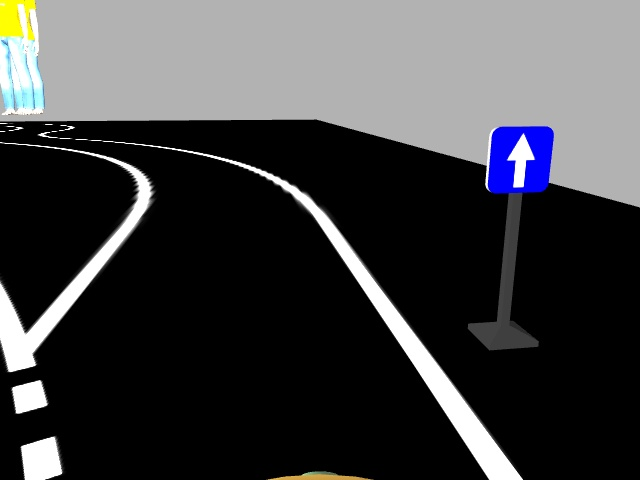OneWay: (482, 125, 551, 193)
